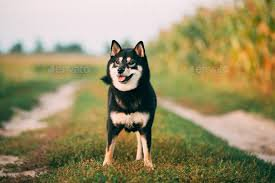dog: (96, 34, 174, 174)
